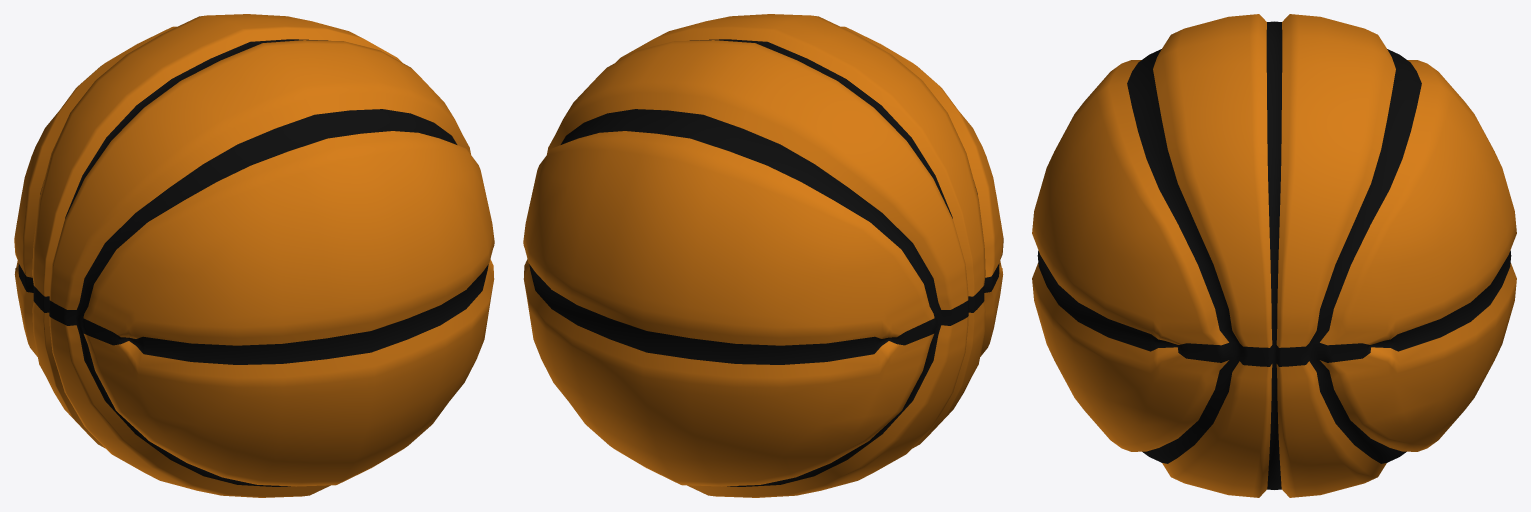
Rendered from basketball.fbx.
3 views of the same model, side by side, from view 1: azimuth 30°, elevation 25°; view 2: azimuth 150°, elevation 25°; view 3: azimuth 270°, elevation 25° (orthographic).
Parts seen in each view (by area): view 1: Basketball; view 2: Basketball; view 3: Basketball.
Boxes of the visible parts, box(x1,y1,x2,y2) form: Basketball: box(14, 14, 494, 497); Basketball: box(523, 14, 1003, 497); Basketball: box(1032, 14, 1516, 497).
Bounding box in the file's own units: 0.9232 × 0.9303 × 0.9277.
